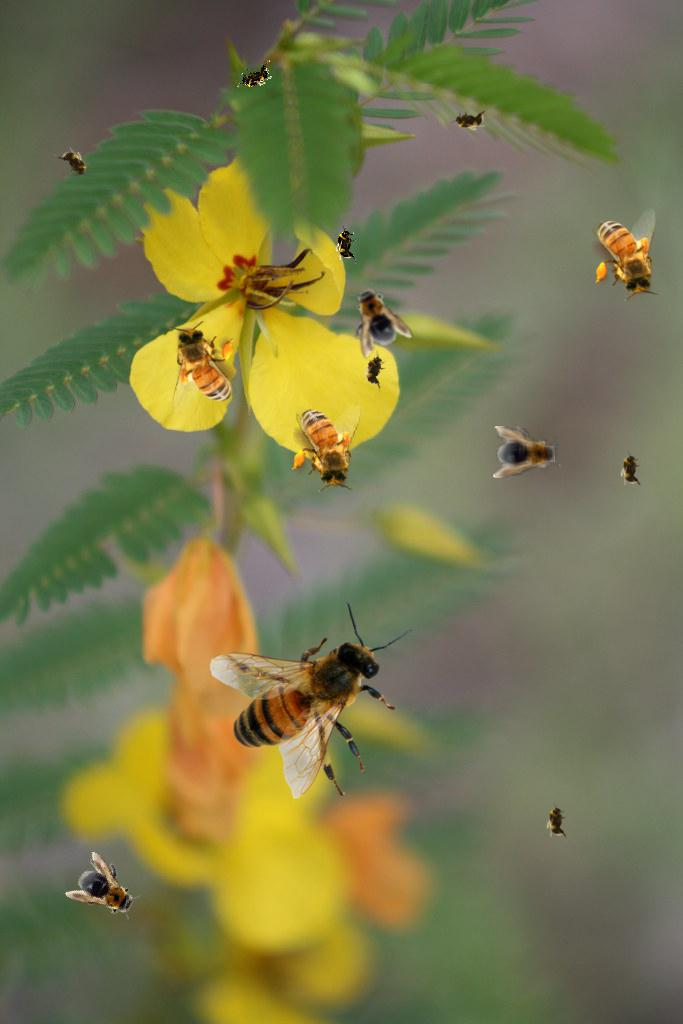Bee: (209, 600, 413, 799), (285, 394, 367, 497), (64, 850, 150, 930), (336, 276, 414, 360), (592, 208, 660, 301), (169, 321, 237, 414), (493, 426, 561, 478), (53, 141, 97, 187), (232, 59, 278, 95), (359, 347, 391, 393), (546, 801, 568, 841), (449, 109, 489, 131), (335, 224, 357, 264), (620, 449, 642, 489)
